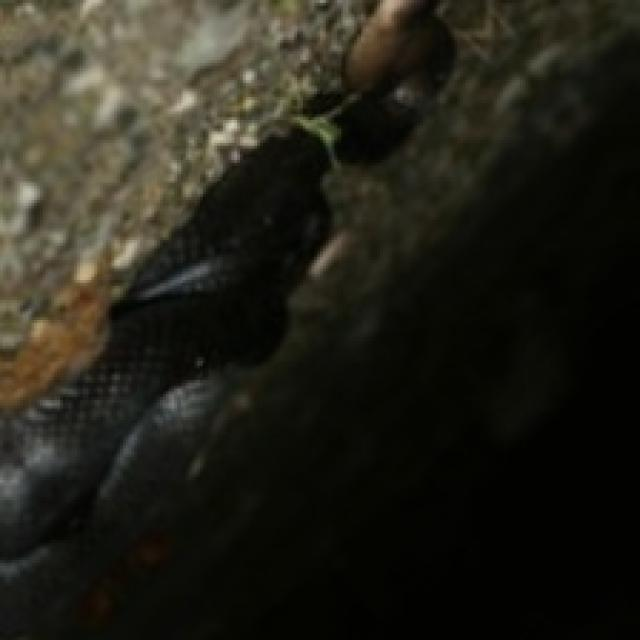reddish rat snake: (0, 0, 451, 637)
